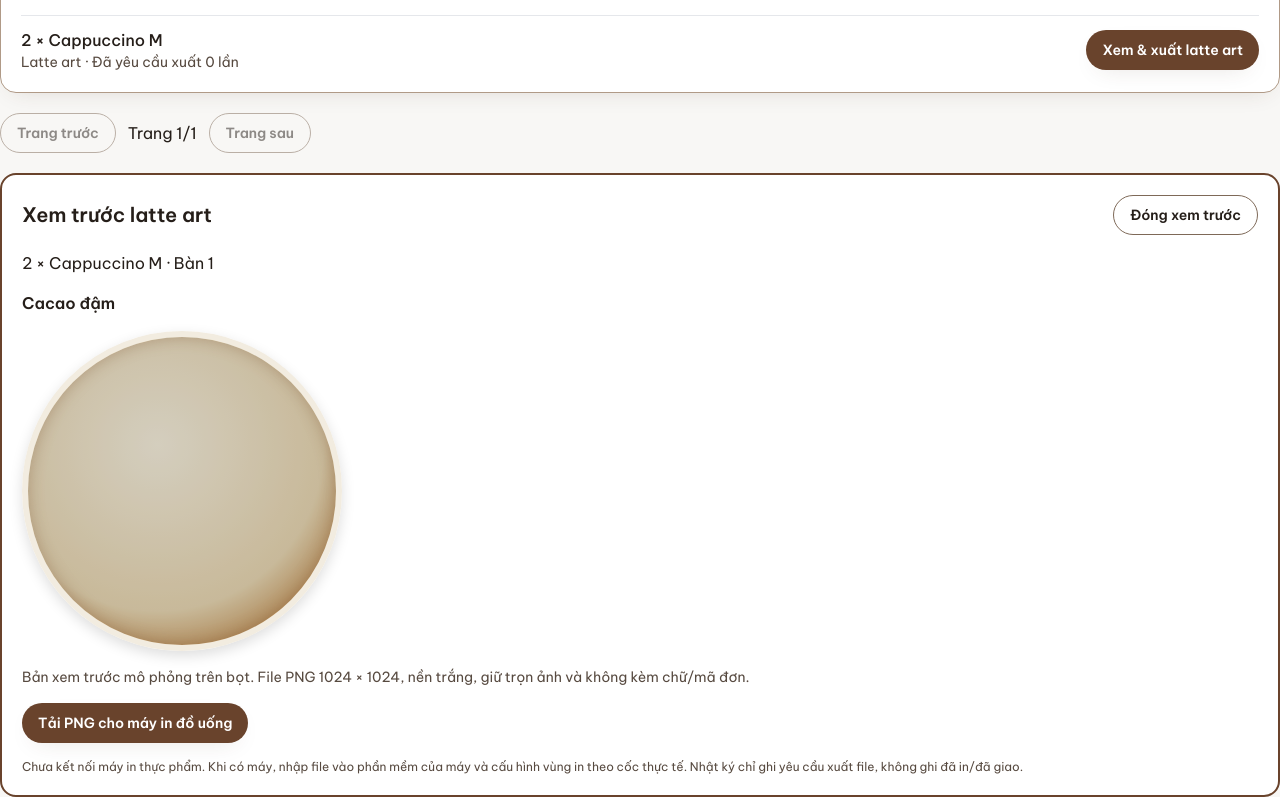
Test: customer latte art selection and private export › exports the chosen PNG with an exact retry and never opens label printing or claims a physical print
Earlier steps of the test are not shown.
(page scrolled)
Click the button "Tải PNG cho máy in đồ uống": (135, 723) top-left (22, 703), bottom-right (248, 743)
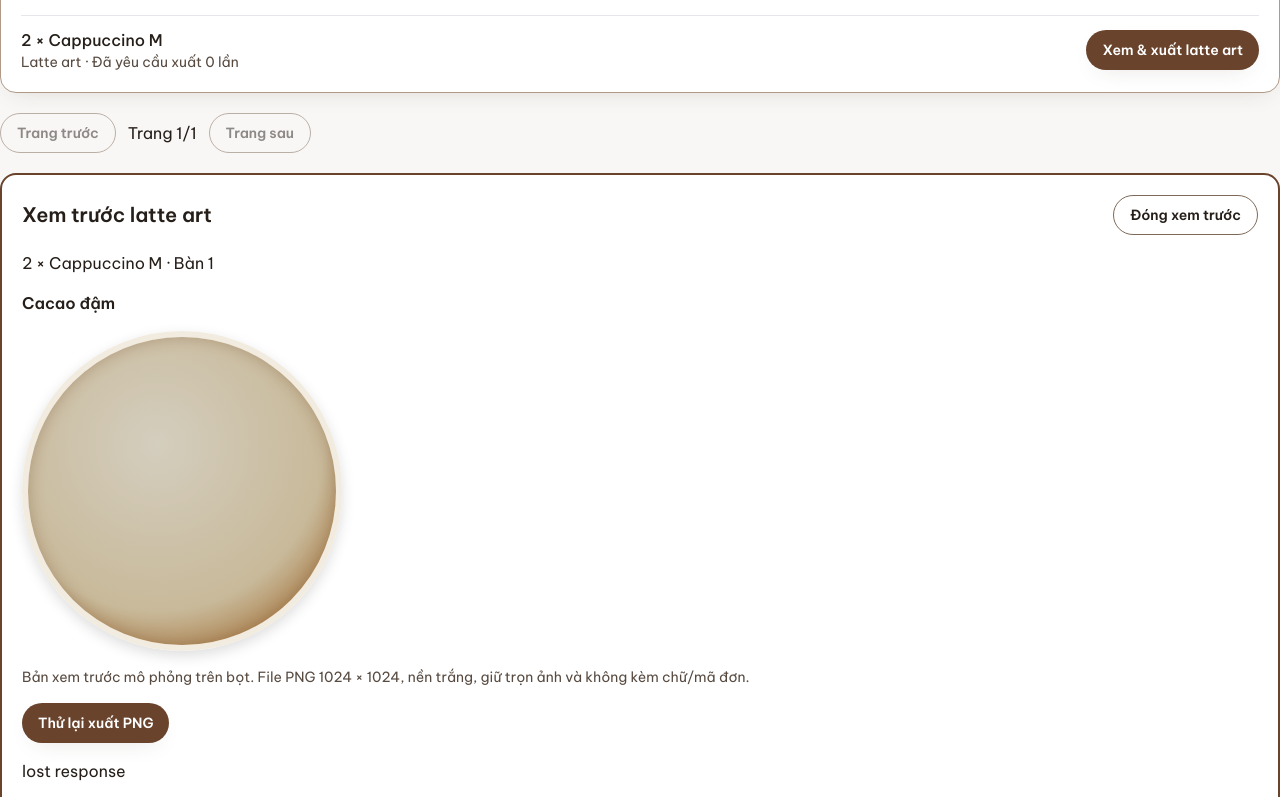
Expected: the text "lost response" is shown, top-left (22, 761), bottom-right (126, 781)
Click the button "Thử lại xuất PNG": (96, 723) top-left (22, 703), bottom-right (170, 743)
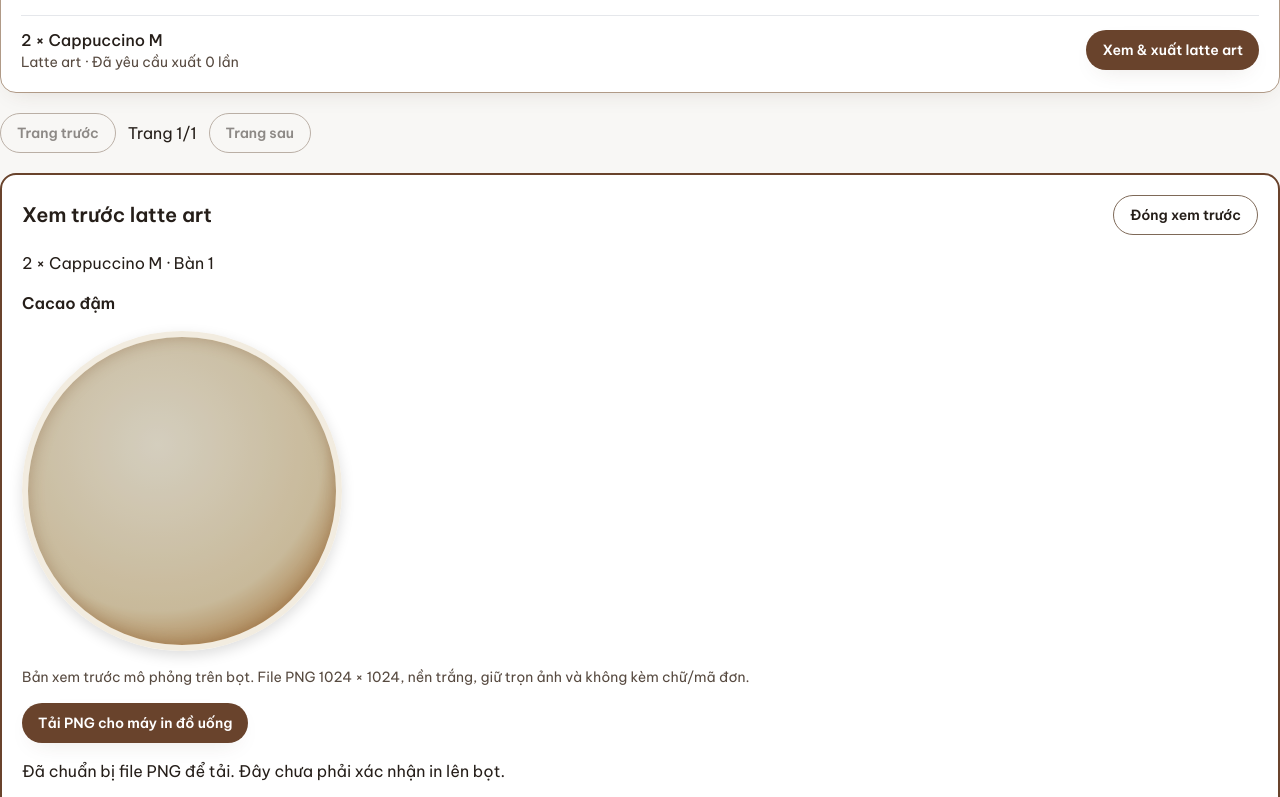
Expected: the text "Đã chuẩn bị file PNG để tải. Đây chưa phải xác nhận in lên bọt." is shown, top-left (22, 761), bottom-right (505, 781)
